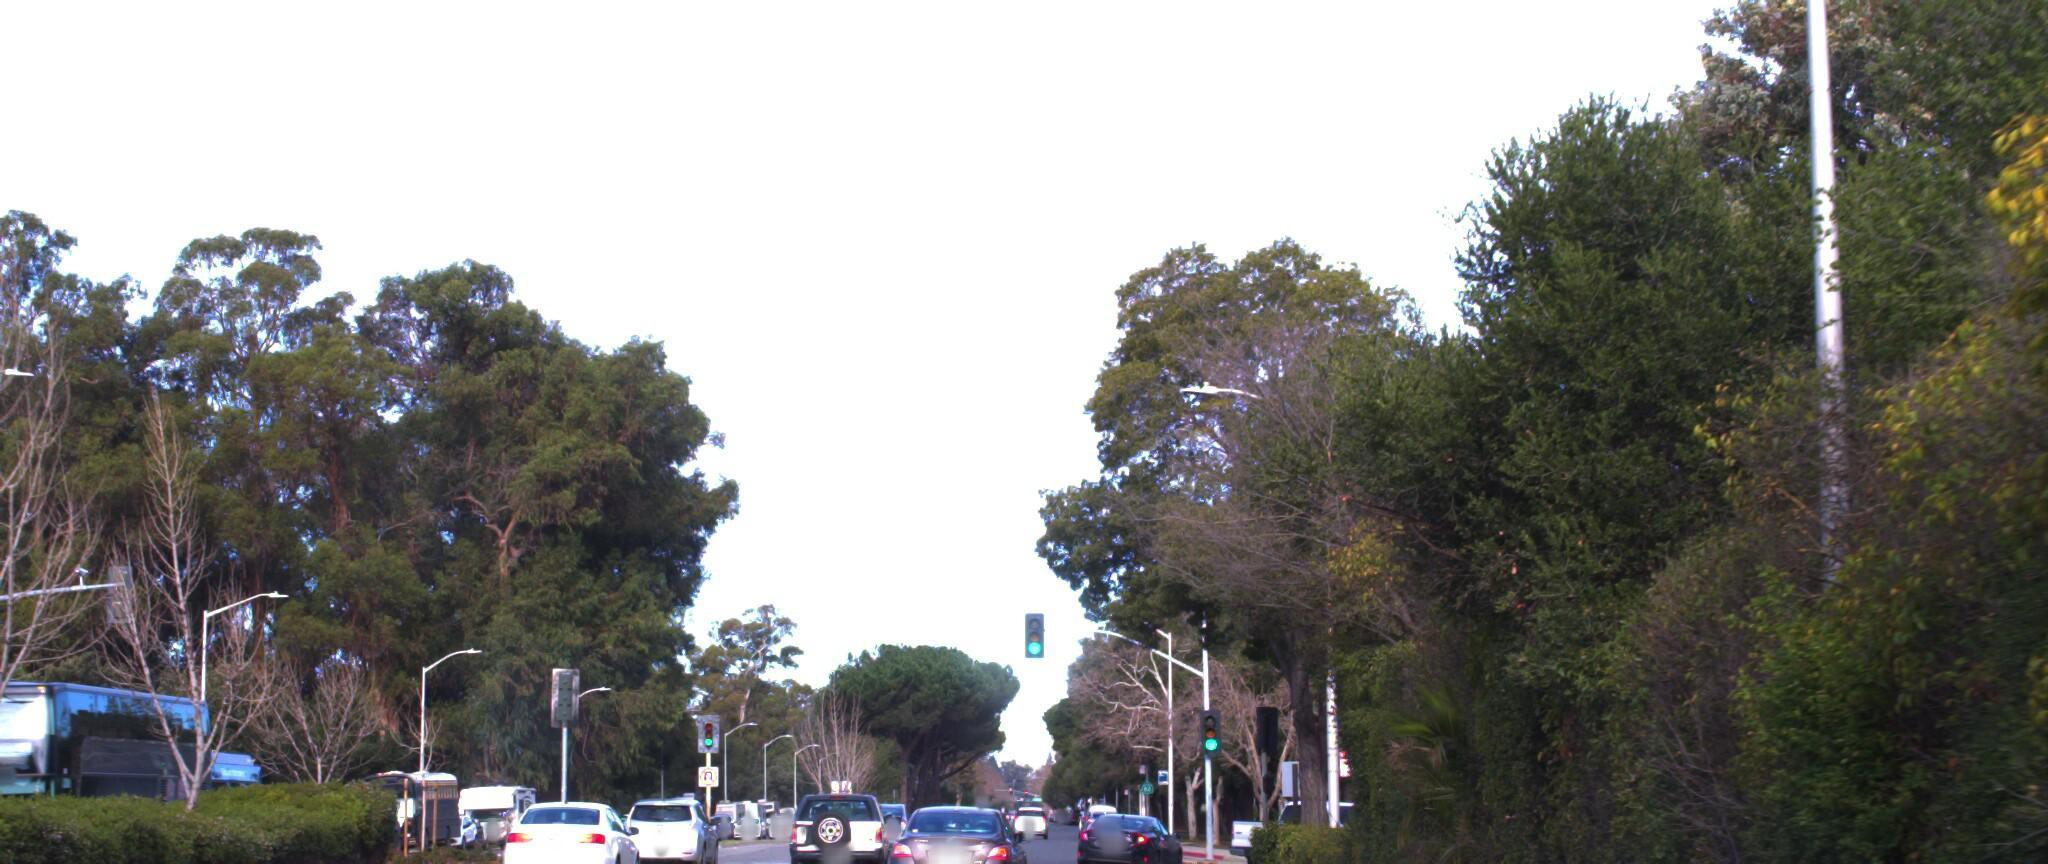car: (488, 779, 649, 864), (866, 784, 1025, 864), (775, 773, 895, 863), (614, 769, 725, 850), (1057, 780, 1173, 852)
